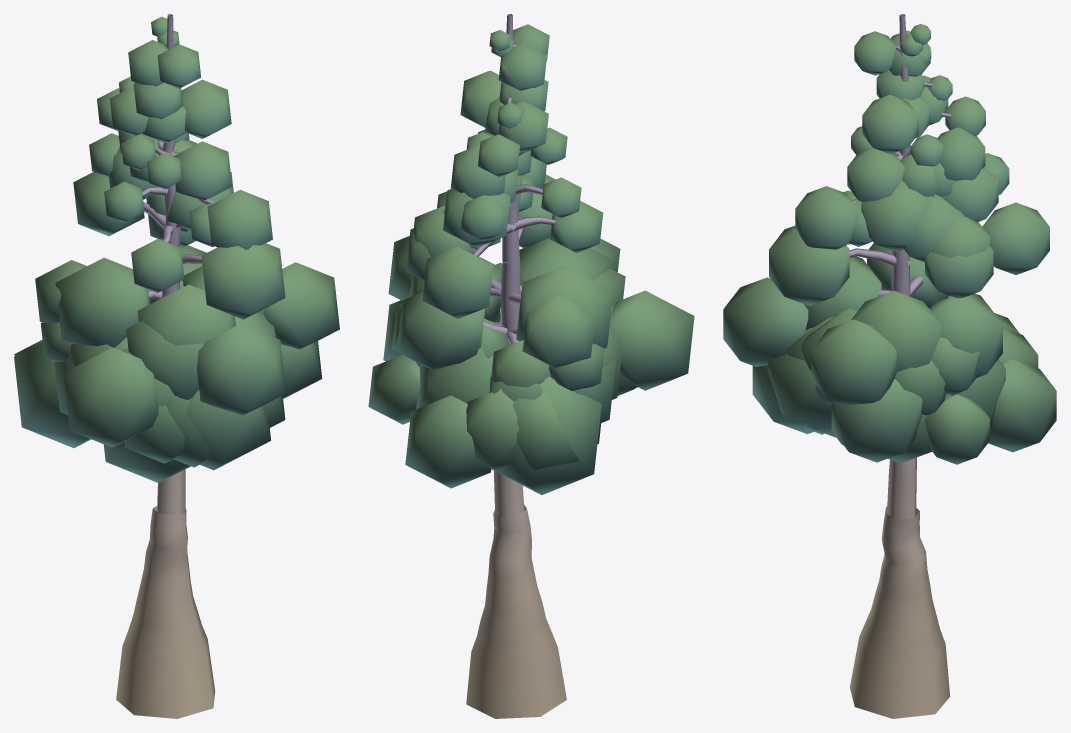
The model's file is seed_conifer_c.glb.
3 renders of one model, left to right at view 1: azimuth 30°, elevation 25°; view 2: azimuth 150°, elevation 25°; view 3: azimuth 270°, elevation 25°, orthographic.
Visible parts, largest first — view 1: seed_conifer_c_LOD0; view 2: seed_conifer_c_LOD0; view 3: seed_conifer_c_LOD0.
Boxes of the visible parts, x1=… form: seed_conifer_c_LOD0: x1=14, y1=14, x2=339, y2=718; seed_conifer_c_LOD0: x1=368, y1=14, x2=694, y2=718; seed_conifer_c_LOD0: x1=723, y1=14, x2=1056, y2=718.
Size of what is drawn, in the model's own units: 4.28 by 10.02 by 4.41.
